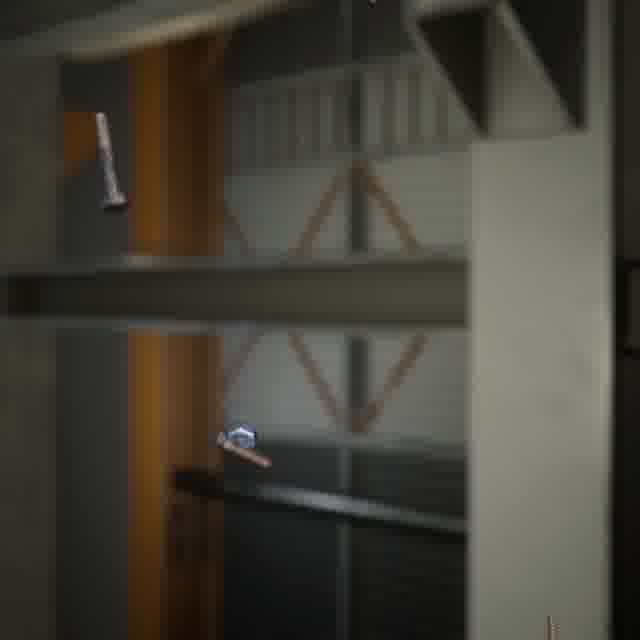bolt: (89, 107, 134, 218), (205, 422, 276, 473)
nut: (223, 416, 262, 454)
